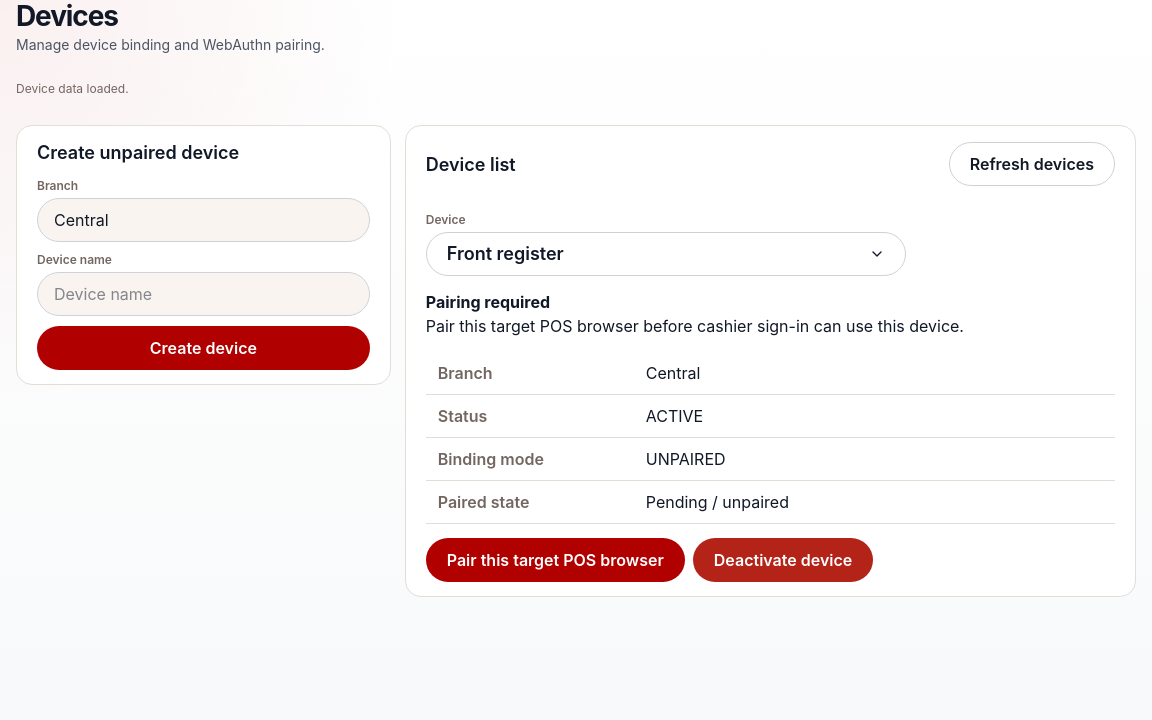
it: DeviceManagement › requires target-browser confirmation and stores only the non-secret device locator
Step 1. Click the button "Pair this target POS browser" → (555, 560), box [426, 538, 685, 582]
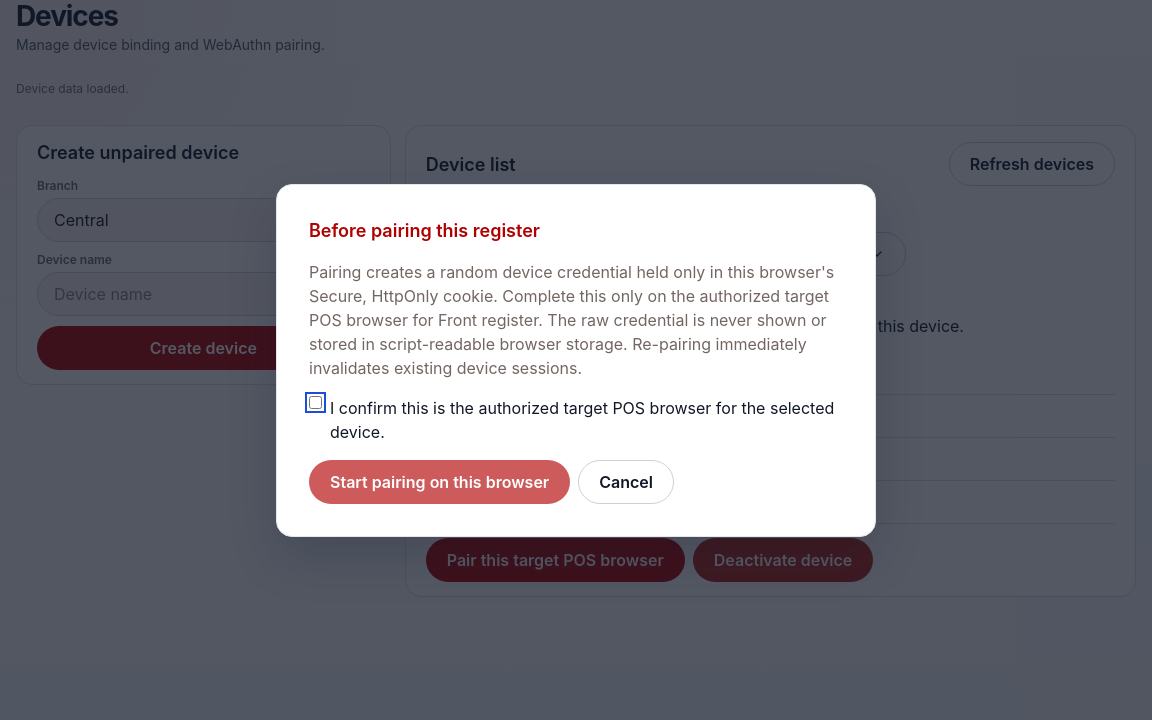
Now the dialog "Before pairing this register" is shown, box [276, 184, 876, 536]
Step 2. Click the button "Cancel" → (626, 482), box [578, 460, 674, 504]
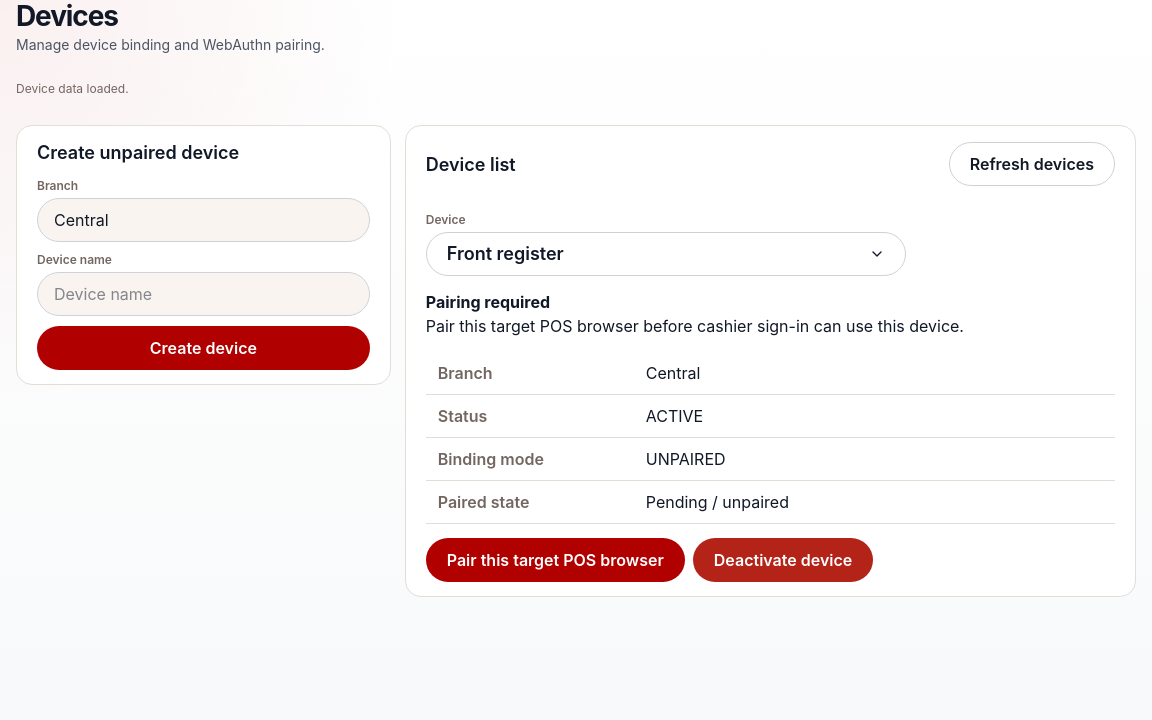
Now the dialog is gone
Step 3. Click the button "Pair this target POS browser" → (555, 560), box [426, 538, 685, 582]
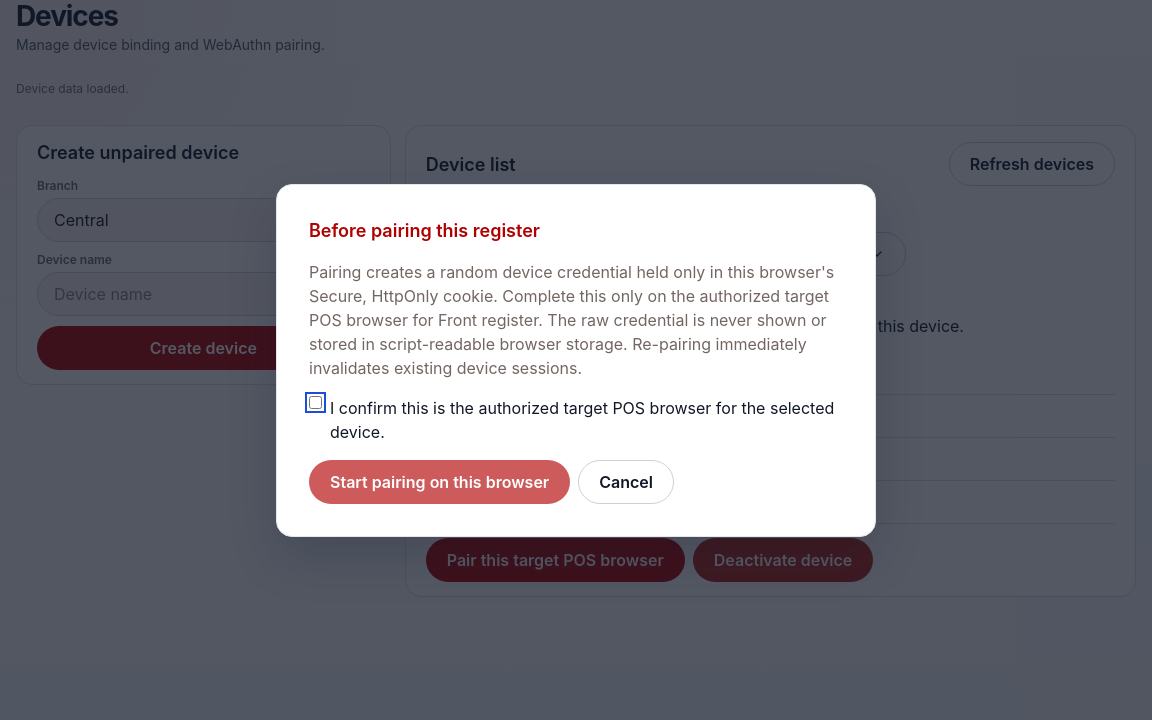
Step 4. Click the checkbox labelled "I confirm this is the authorized target POS browser" → (316, 402), box [309, 396, 322, 408]
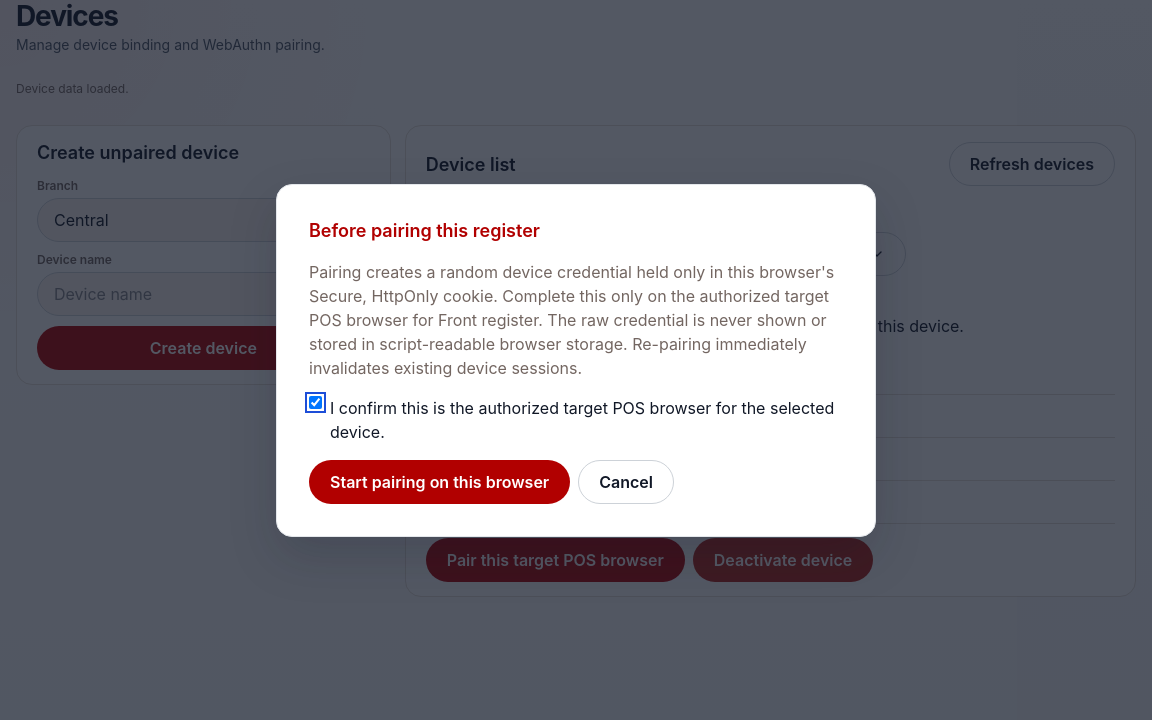
Step 5. Click the button "Start pairing on this browser" → (440, 482), box [309, 460, 570, 504]
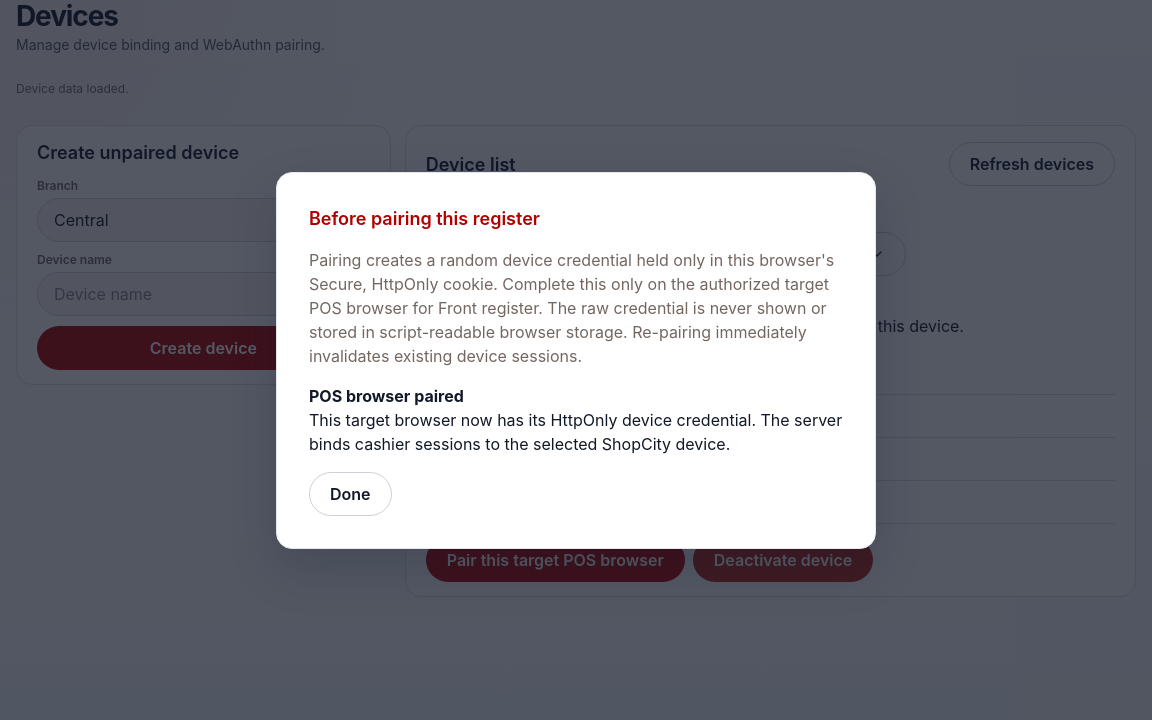
Now the text "now has its HttpOnly device credential" is shown, box [309, 410, 842, 454]
